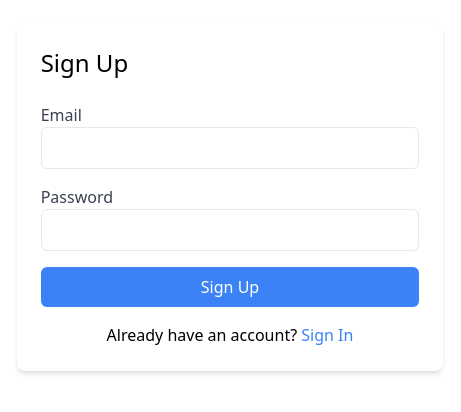
Test: SignUp Component › displays error message for failed sign up
Type "test@test.com" into the field labelled "Email" at (230, 148), box left=41, top=127, right=419, bottom=169
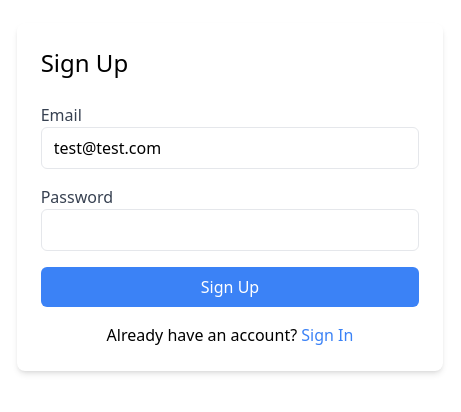
Type "password" into the password field labelled "Password" at (230, 230), box left=41, top=209, right=419, bottom=251
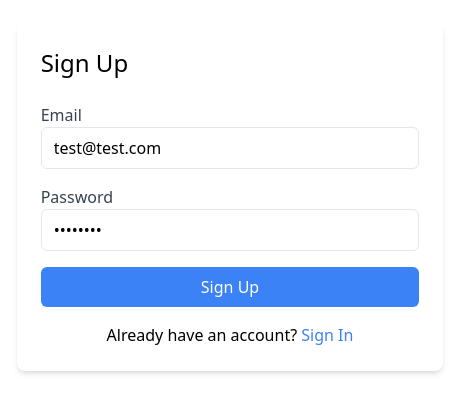
Click the button "Sign Up" at (230, 287), box left=41, top=267, right=419, bottom=307
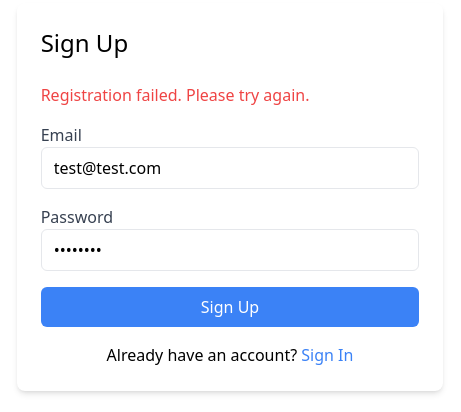
Check: the text "Registration failed. Please try again." is shown, box left=41, top=84, right=310, bottom=106
